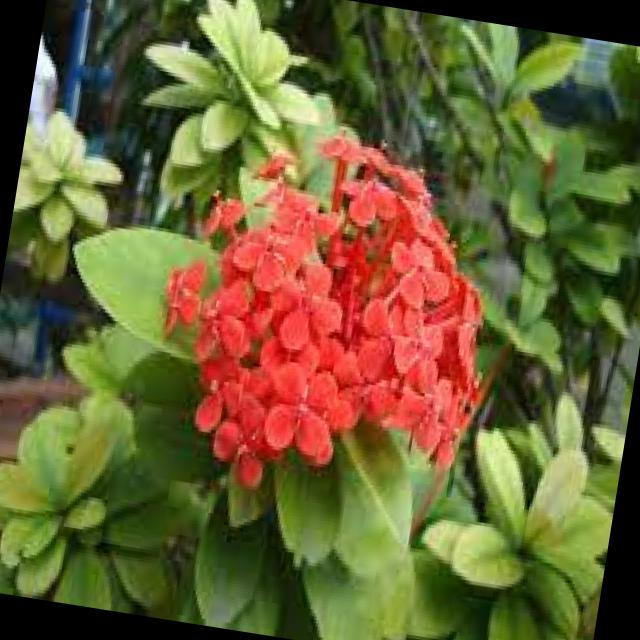Chinese-Ixora: (138, 100, 520, 530)
